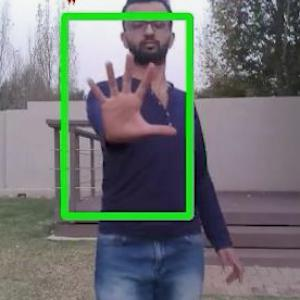follow_hand: (82, 46, 178, 146)
